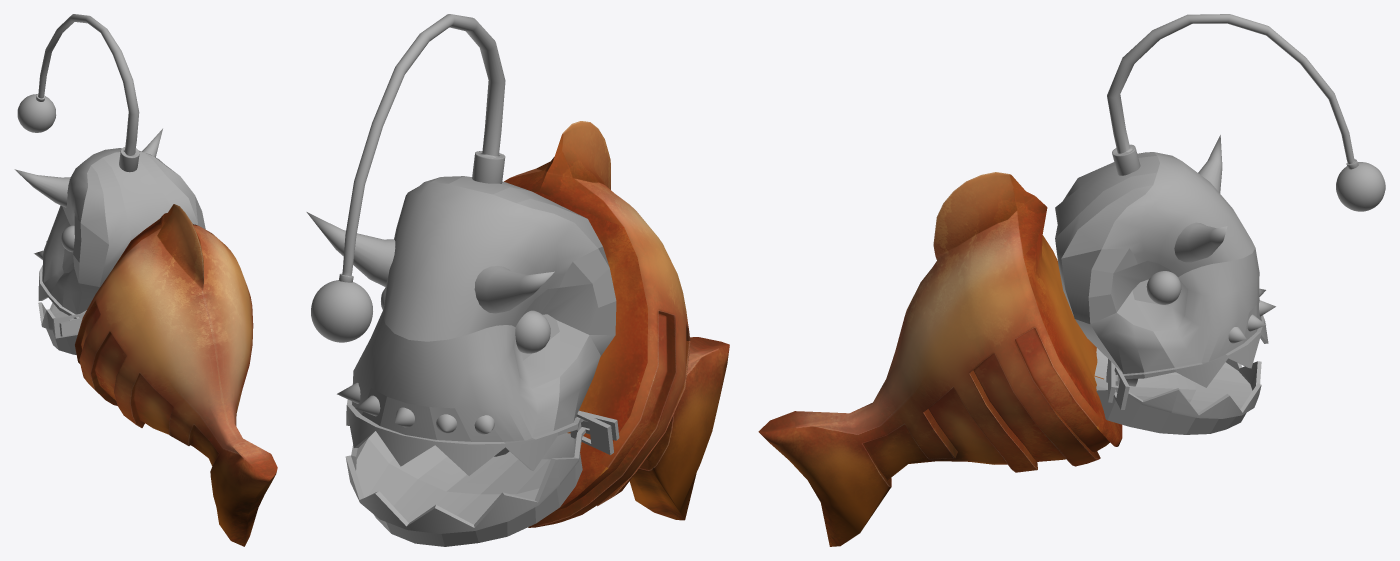
The model's file is boss_tyoutintuki.fbx.
3 renders of one model, left to right at view 1: azimuth 30°, elevation 25°; view 2: azimuth 150°, elevation 25°; view 3: azimuth 270°, elevation 25°, orthographic. The views are drawn at different scales.
Visible parts, largest first — view 1: MD_body, MD_eye4, boss_tyoutin1:pSphere2, MD_horn4; view 2: MD_eye4, MD_body, boss_tyoutin1:pSphere2, MD_horn4; view 3: MD_body, MD_eye4, boss_tyoutin1:pSphere2, MD_horn4.
Boxes of the visible parts, <box> form: MD_body: <box>75,204,277,546</box>; MD_eye4: <box>38,148,205,354</box>; boss_tyoutin1:pSphere2: <box>17,14,139,172</box>; MD_horn4: <box>14,128,162,259</box>; MD_eye4: <box>345,176,619,546</box>; MD_body: <box>504,121,729,527</box>; boss_tyoutin1:pSphere2: <box>311,14,505,342</box>; MD_horn4: <box>306,212,554,434</box>; MD_body: <box>758,172,1122,546</box>; MD_eye4: <box>1055,152,1268,434</box>; boss_tyoutin1:pSphere2: <box>1107,14,1385,211</box>; MD_horn4: <box>1174,135,1275,343</box>.
Size of the model in its own units: 27.03 by 67.76 by 72.31.
